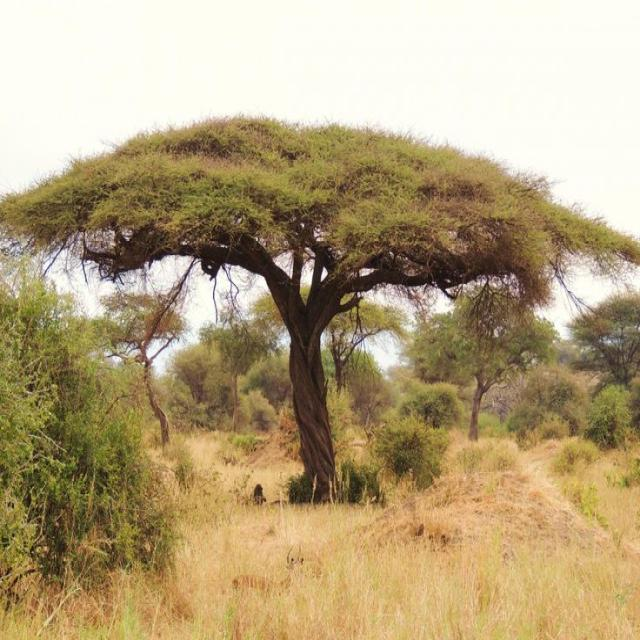Acacia: (53, 111, 616, 482)
